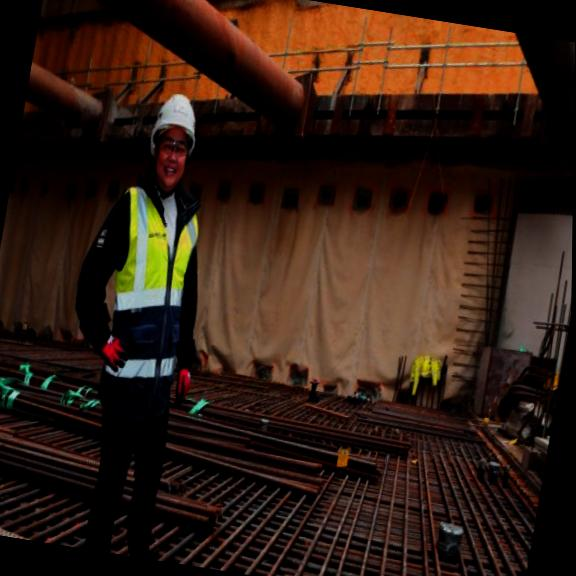safety_vest: (84, 180, 215, 425)
